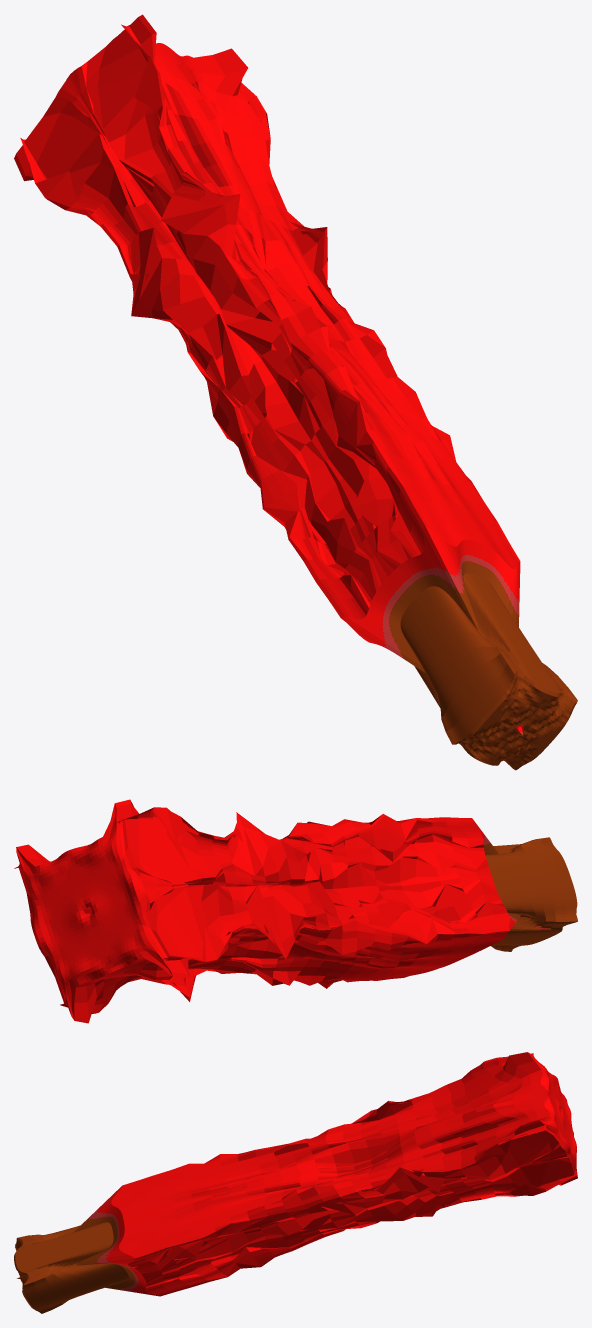
File: club.fbx
3 renders of one model, top to bottom at view 1: azimuth 30°, elevation 25°; view 2: azimuth 150°, elevation 25°; view 3: azimuth 270°, elevation 25°, orthographic. The views are drawn at different scales.
Parts seen in each view (by area): view 1: Cube; view 2: Cube; view 3: Cube.
Boxes of the visible parts, x1,y1,x2,y2 form: Cube: (14,14,577,770); Cube: (14,799,577,1023); Cube: (14,1052,577,1313).
Size of the model in its own units: 344 by 677 by 1277.
